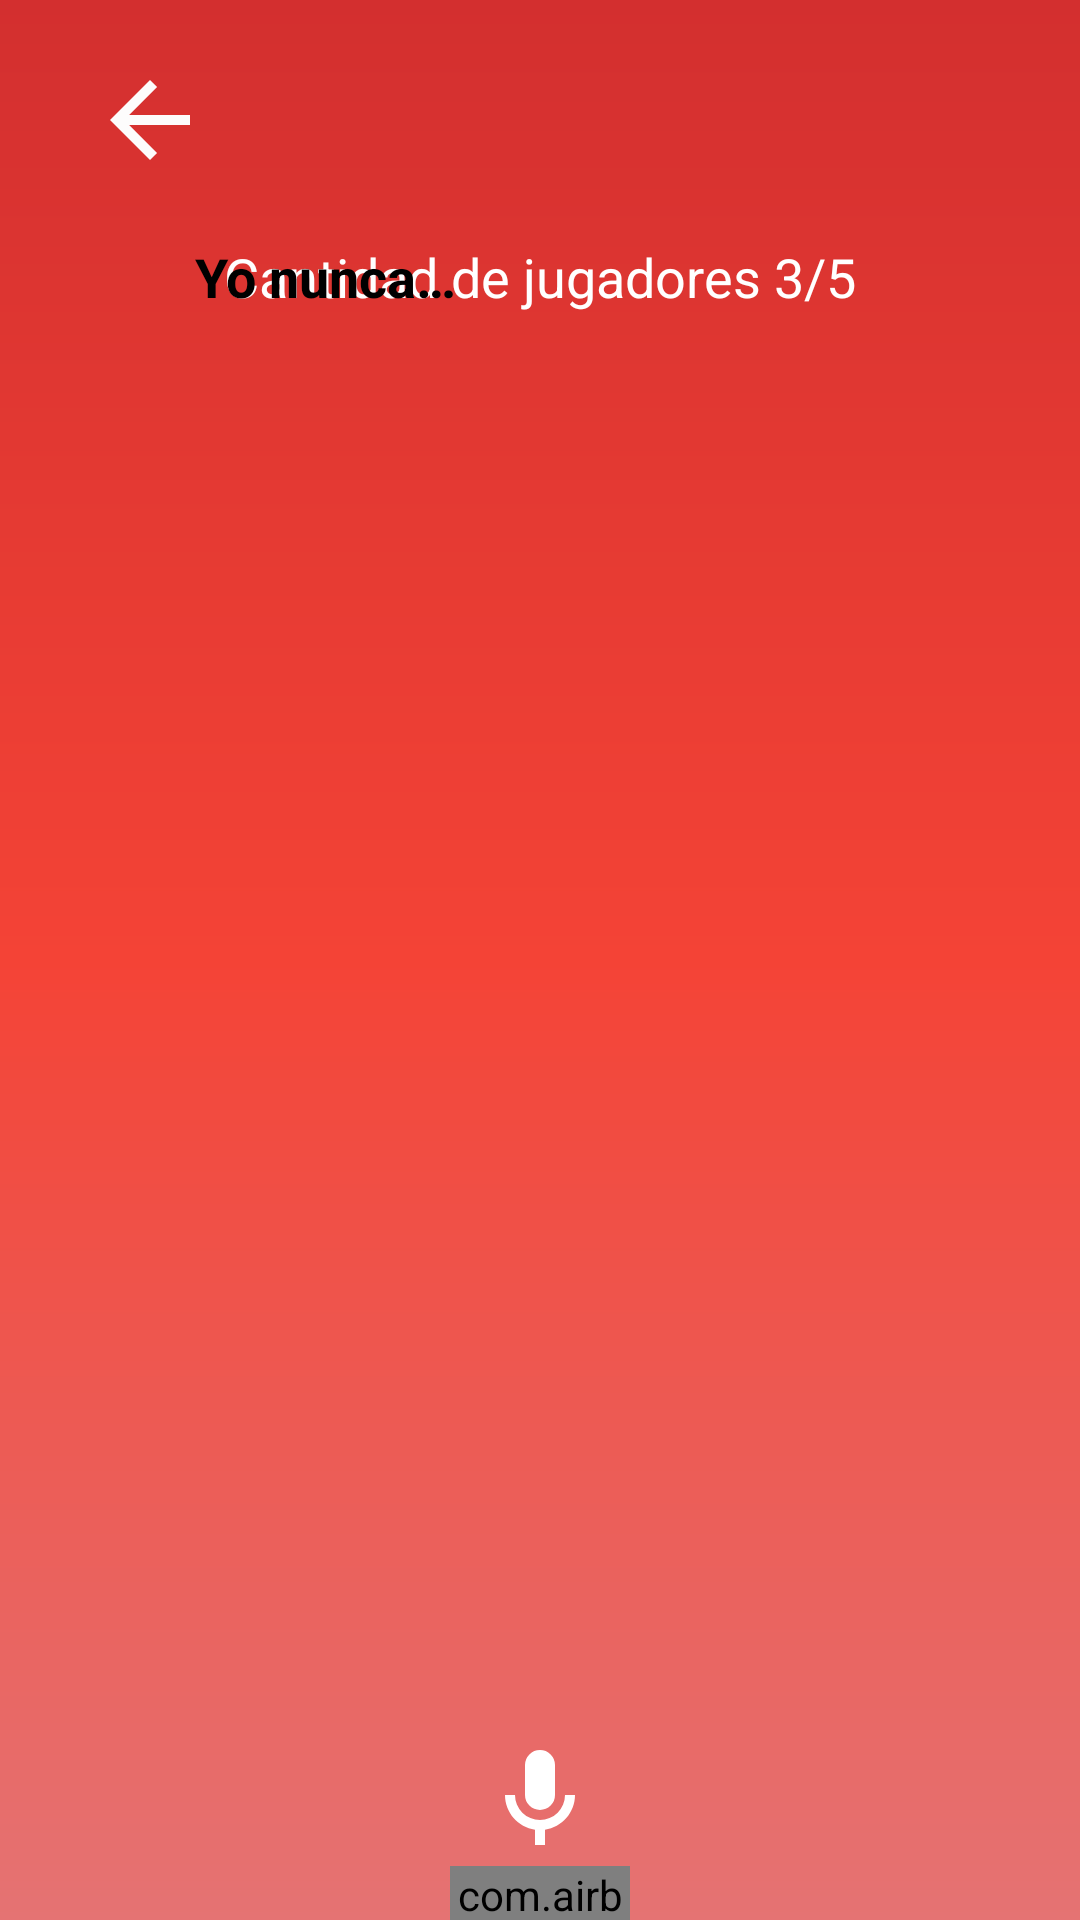

Named icons in this screenshot (1080 x 1920) and their centers, [x,y]:
back: [150,120]
microphone: [540,1797]
